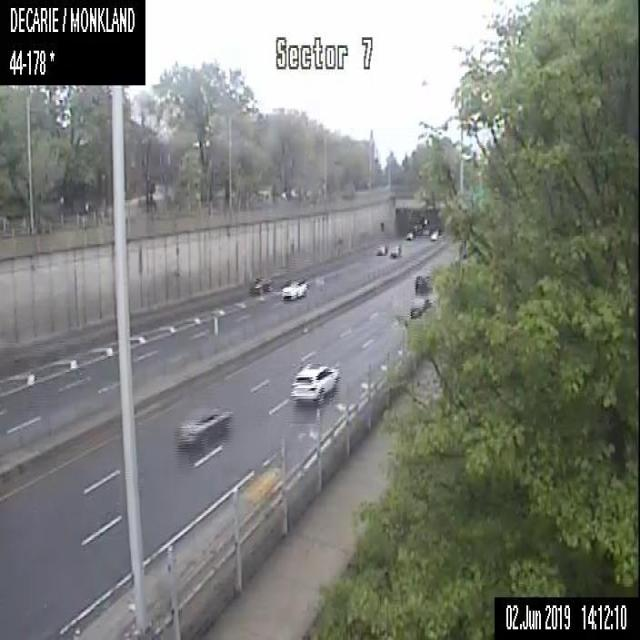vehicle: (172, 403, 232, 456), (290, 361, 339, 404), (280, 277, 308, 300), (249, 273, 275, 295), (408, 296, 431, 320), (414, 270, 433, 293), (374, 242, 386, 255), (390, 242, 401, 255), (429, 227, 438, 240), (404, 228, 414, 239)
